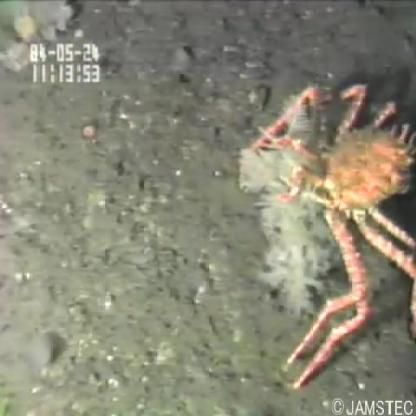Bio: (232, 76, 416, 392)
